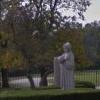Statue: (48, 37, 77, 88)
